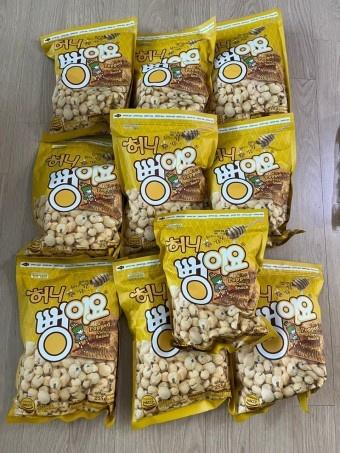snack: (5, 255, 120, 429), (153, 207, 270, 350), (37, 13, 140, 145)
